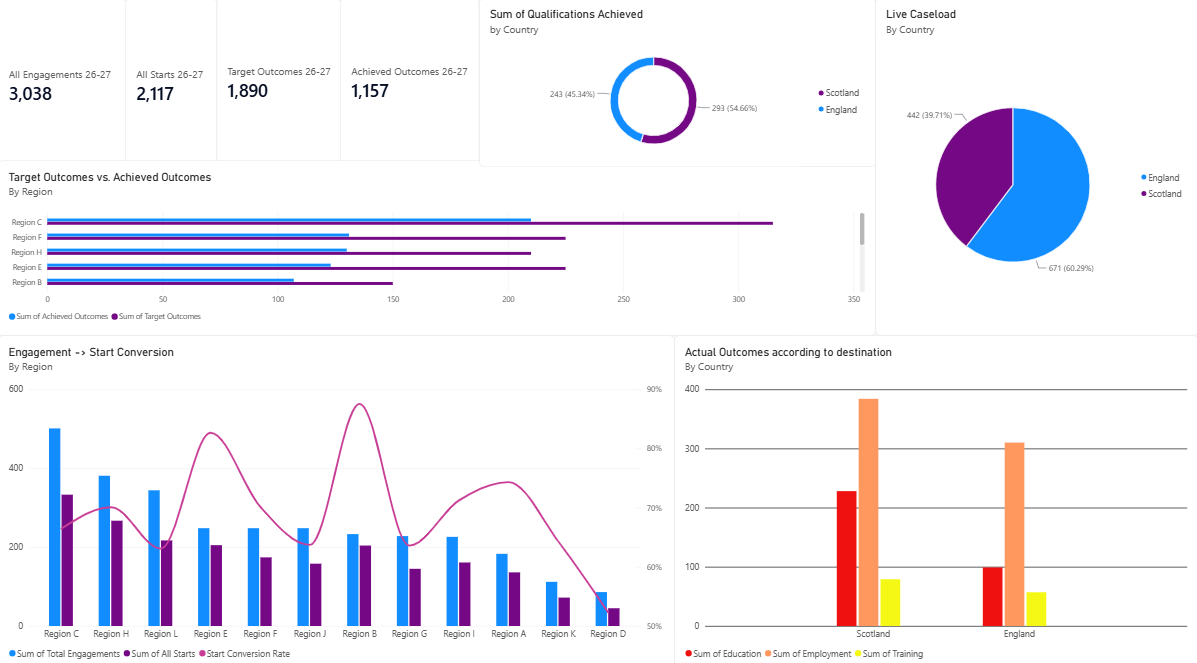

What the dashboard file says about the page in this screenshot:
{"tool":"powerbi","page":{"name":"Page 1","canvas":[1920,1080],"ordinal":0},"visuals":[{"type":"cardVisual","title":"Total Engagements","fields":{"Data":["Sum(SL Spreadsheet.Engagements)"]},"box":[0,0,204,280],"z":0},{"type":"cardVisual","fields":{"Data":["Sum(SL Spreadsheet.All Starts)"]},"box":[204,0,146,280],"z":1000},{"type":"cardVisual","fields":{"Data":["Sum(SL Spreadsheet.Target Outcomes)"]},"box":[350,0,198,270],"z":2000},{"type":"cardVisual","fields":{"Data":["Sum(SL Spreadsheet.Actual Outcomes)"]},"box":[548,0,222,270],"z":3000},{"type":"lineClusteredColumnComboChart","title":"Engagement -> Start Conversion","fields":{"Category":["SL Spreadsheet.Area"],"Y":["Sum(SL Spreadsheet.Engagements)","Sum(SL Spreadsheet.All Starts)","select"],"Y2":["SL Spreadsheet.Start Conversion Rate"]},"box":[0,540,1082,540],"z":3001},{"type":"clusteredColumnChart","title":"Actual Outcomes according to destination","fields":{"Category":["SL Spreadsheet.Country"],"Y":["Sum(SL Spreadsheet.Education)","Sum(SL Spreadsheet.Employment)","Sum(SL Spreadsheet.Training)"]},"box":[1082,540,838,540],"z":3002},{"type":"pieChart","title":"Live Caseload","fields":{"Category":["SL Spreadsheet.Country"],"Y":["Sum(SL Spreadsheet.Live Caseload)"]},"box":[1404,0,516,540],"z":3003},{"type":"clusteredBarChart","title":"Target Outcomes vs. Achieved Outcomes","fields":{"Category":["SL Spreadsheet.Area"],"Y":["Sum(SL Spreadsheet.Achieved Outcomes)","Sum(SL Spreadsheet.Target Outcomes)"]},"box":[0,260,1404,280],"z":3004},{"type":"donutChart","fields":{"Category":["SL Spreadsheet.Country"],"Y":["Sum(SL Spreadsheet.Qualifications Achieved)"]},"box":[770,0,634,270],"z":3005}]}

Visuals, with their boxes in screenshot pixels (x1, y1, x2, y2), scaled from the page's 1920x1080 canvas onto the 1197x663 screenshot:
"Total Engagements" cardVisual: bbox(0, 0, 127, 172)
cardVisual - Sum(SL Spreadsheet.All Starts): bbox(127, 0, 218, 172)
cardVisual - Sum(SL Spreadsheet.Target Outcomes): bbox(218, 0, 342, 166)
cardVisual - Sum(SL Spreadsheet.Actual Outcomes): bbox(342, 0, 480, 166)
"Engagement -> Start Conversion" lineClusteredColumnComboChart: bbox(0, 332, 675, 662)
"Actual Outcomes according to destination" clusteredColumnChart: bbox(675, 332, 1196, 662)
"Live Caseload" pieChart: bbox(875, 0, 1196, 332)
"Target Outcomes vs. Achieved Outcomes" clusteredBarChart: bbox(0, 160, 875, 332)
donutChart - SL Spreadsheet.Country x Sum(SL Spreadsheet.Qualifications Achieved): bbox(480, 0, 875, 166)
